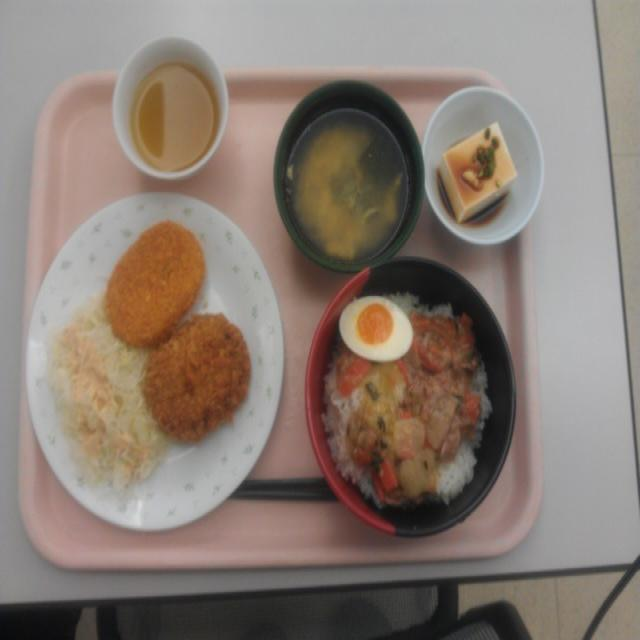汤锅炖物: (280, 88, 420, 275)
炸货点心: (90, 203, 272, 432)
豆腐料理: (424, 80, 552, 248)
